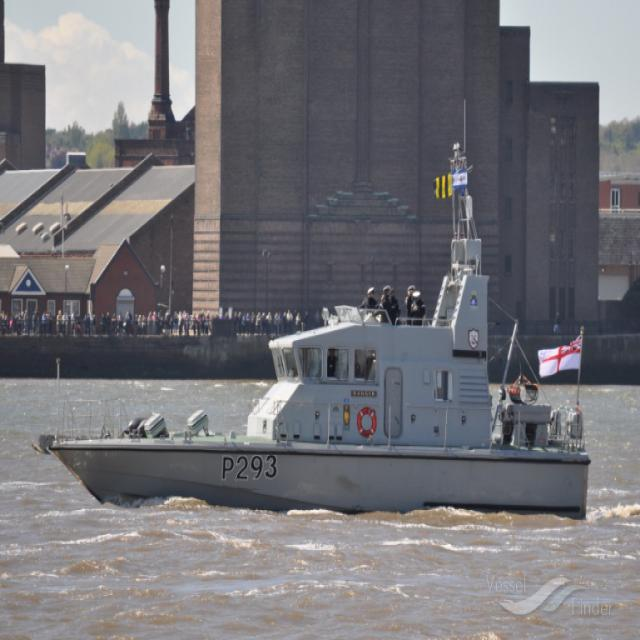OCR: (214, 455, 278, 493)
